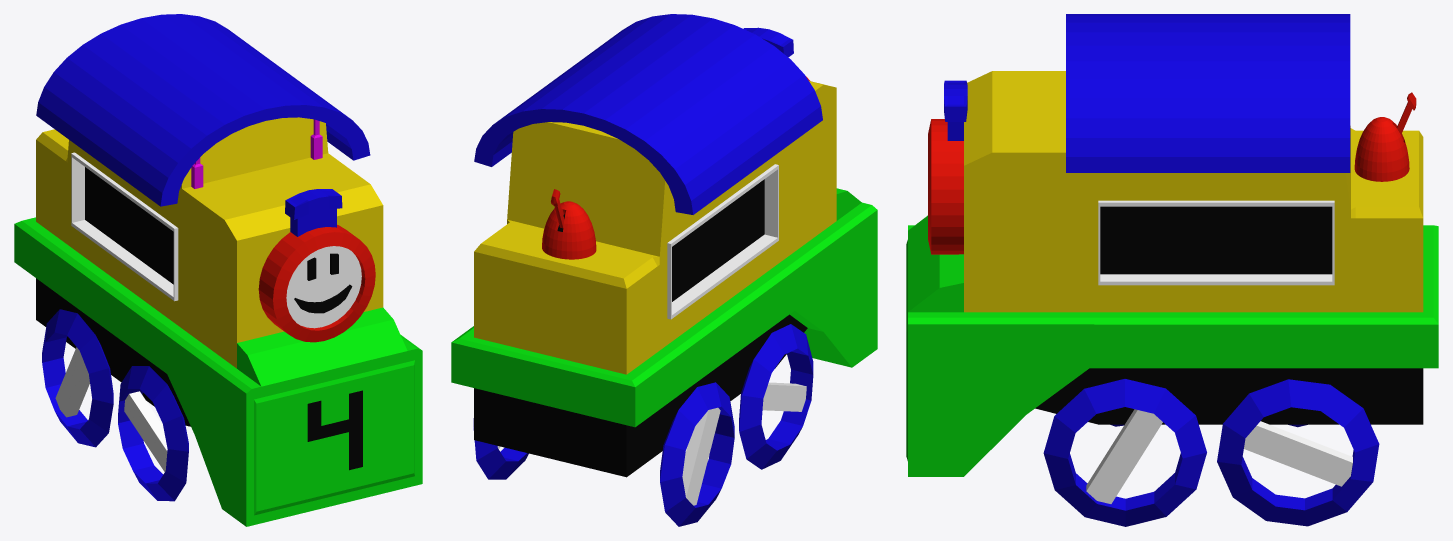
The model's file is TremInfantil.fbx.
3 renders of one model, left to right at view 1: azimuth 30°, elevation 25°; view 2: azimuth 150°, elevation 25°; view 3: azimuth 270°, elevation 25°, orthographic. The views are drawn at different scales.
Parts seen in each view (by area): view 1: Cube, Cylinder.001, Cylinder, Torus.003, Torus.002; view 2: Cube, Cylinder.001, Torus.002, Torus.003, Sphere, Torus.001, Cylinder; view 3: Cube, Cylinder.001, Torus.001, Torus, Cylinder, Sphere.
Part boxes in pixels (box(x1,y1,x2,y2)): Cube: box(14, 117, 422, 526); Cylinder.001: box(36, 14, 370, 206); Cylinder: box(258, 189, 375, 342); Torus.003: box(118, 366, 188, 501); Torus.002: box(42, 309, 113, 447); Cube: box(451, 81, 877, 477); Cylinder.001: box(474, 14, 822, 214); Torus.002: box(660, 382, 734, 526); Torus.003: box(739, 324, 813, 469); Sphere: box(542, 189, 596, 259); Torus.001: box(473, 418, 528, 479); Cylinder: box(743, 27, 809, 80); Cube: box(906, 71, 1438, 476); Cylinder.001: box(1066, 14, 1350, 172); Torus.001: box(1217, 379, 1379, 526); Torus: box(1043, 379, 1206, 526); Cylinder: box(928, 80, 967, 254); Sphere: box(1354, 92, 1416, 181).
Size of the model in its own units: 238 by 458 by 420.
